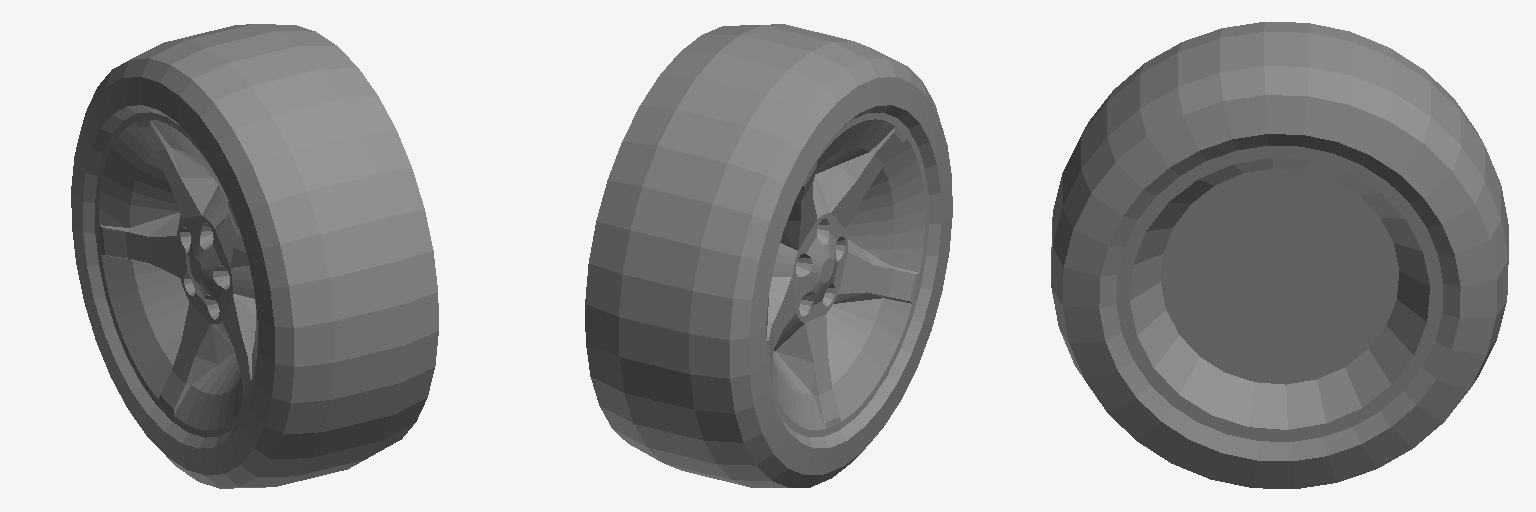
File: Wheel1.obj
The picture shows the model from 3 angles: view 1: azimuth 30°, elevation 25°; view 2: azimuth 150°, elevation 25°; view 3: azimuth 270°, elevation 25°; orthographic projection.
Visible parts, largest first — view 1: BTechFix; view 2: BTechFix; view 3: BTechFix.
Boxes of the visible parts, x1,y1,x2,y2 form: BTechFix: [71, 24, 438, 488]; BTechFix: [585, 24, 952, 487]; BTechFix: [1051, 22, 1508, 488].
Size of the model in its own units: 35.25 by 81.6 by 81.6.